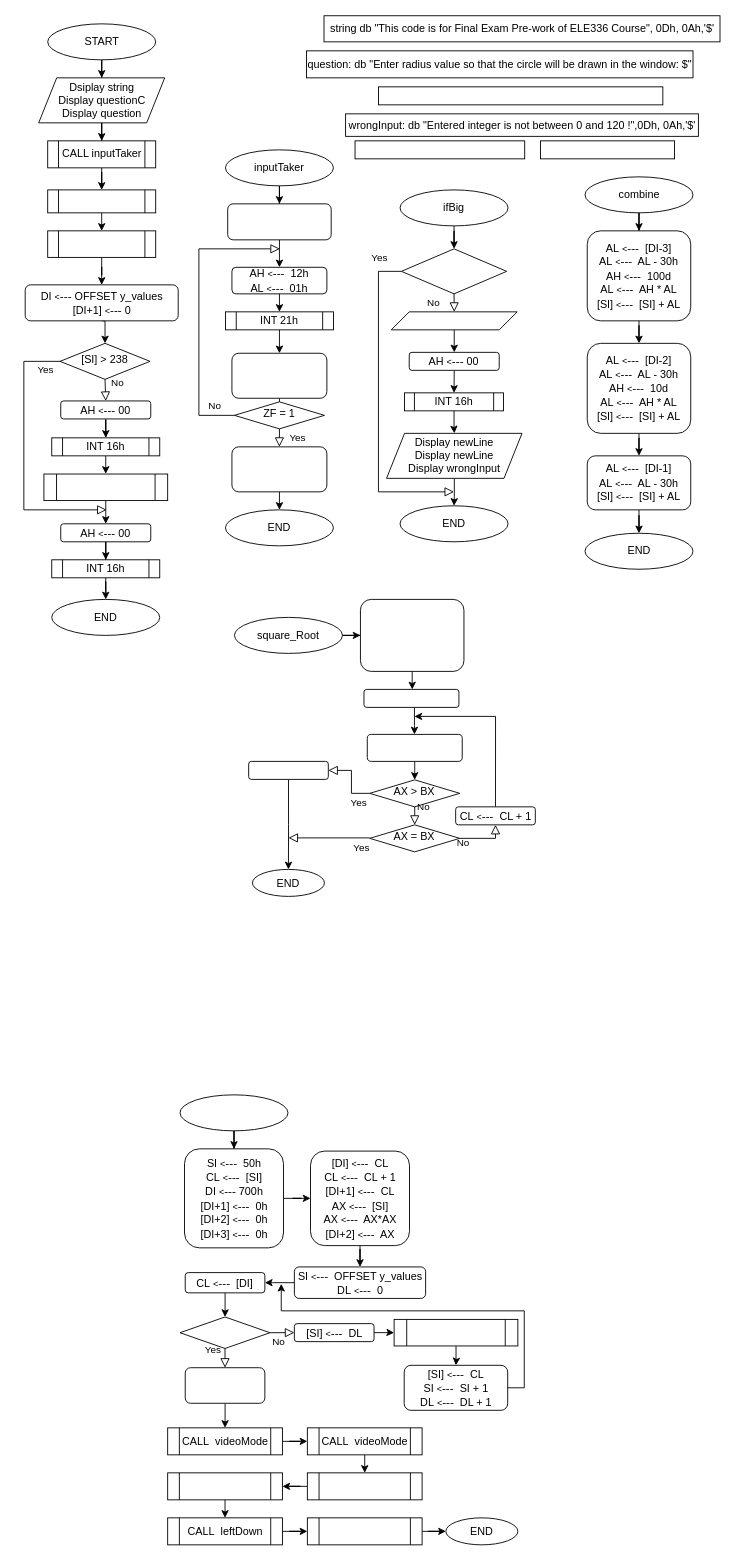
This 736x1561 diagram has some shape labels left out. The box of each missing label's shape, as (x1, y1, x2, y2) in pixels:
[DI] < --- AL DI < --- DI + 1 CX < --- CX - 1: (231, 352, 327, 398)
[SI] < --- 0 [SI+1] < --- 24h: (184, 1367, 265, 1403)
[SI] < 238: (400, 248, 507, 294)
AL < --- CL AX < --- AL*AL: (366, 734, 462, 761)
all_Y_values: (179, 1094, 288, 1131)
BX < --- [DI+2] AL < --- [SI] AX < --- AL*AL BX < --- BX - AX: (360, 598, 464, 671)
CALL all_Y_values: (43, 473, 168, 501)
CALL combine: (47, 189, 156, 213)
CALL ifBig: (47, 230, 156, 257)
CALL leftUp: (306, 1517, 422, 1545)
CALL rightDown: (167, 1472, 282, 1500)
CALL rightUp: (306, 1472, 422, 1500)
CALL square_Root: (393, 1318, 518, 1346)
CL < --- 0: (363, 688, 459, 707)
CL < --- CL - 1: (248, 760, 328, 779)
DI < --- 30h CX < --- 3d: (227, 203, 331, 240)
Display newLine: (390, 311, 517, 330)
DL = CL: (179, 1316, 270, 1348)
newLine: db 0Dh, 0Ah,'$': (540, 140, 675, 159)
questionC: db "Please make it three digits!", 0Dh, 0Ah,'$': (378, 86, 663, 105)
SI < --- 50h [SI] < --- 0h [SI+1] < --- 0h: (231, 446, 327, 492)
y_Value: db "Y-pixel value is = $": (354, 140, 525, 159)
